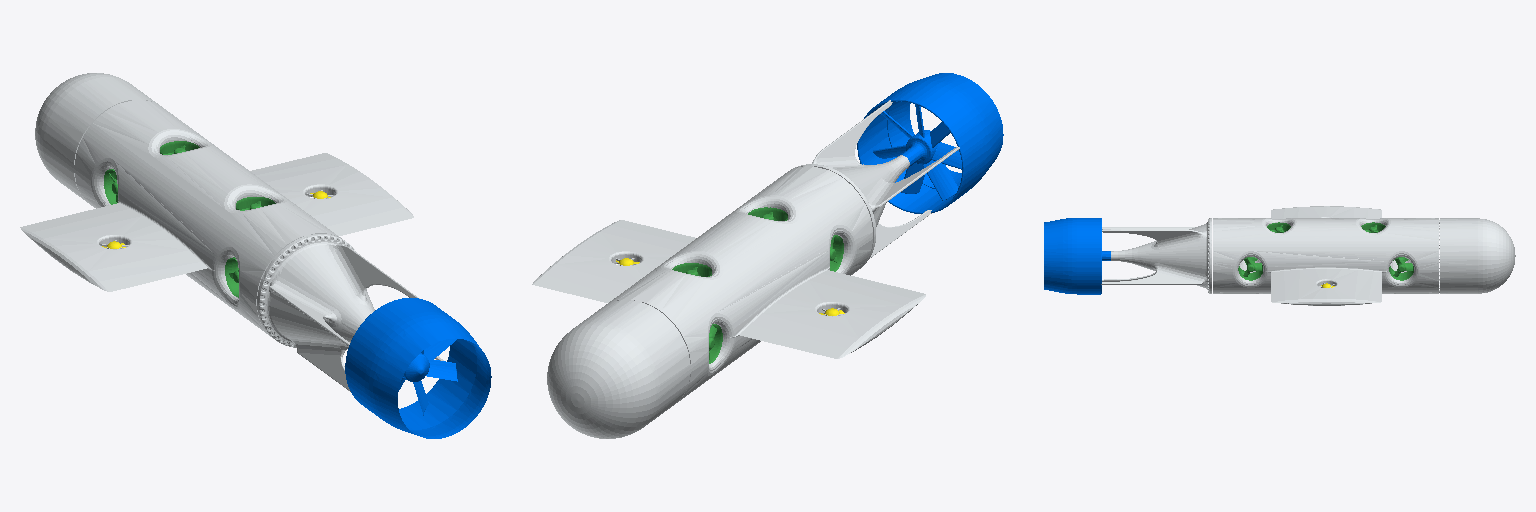
The robot description file, URDF, robot "submarine":
<?xml version="1.0" encoding="utf-8"?>
<robot name="submarine">

  <!-- Base Link -->
  <link name="base_link" />

  <!-- submarineBody -->
  <link name="submarineBody">
    <inertial>
      <origin xyz="0.0198000304243374 0.160306655769169 0.0347768424725871" rpy="0 0 0"/>
      <mass value="245.0"/>
      <inertia ixx="34.6169121880258" ixy="0.441155830654621" ixz="0.0295668083024074"
               iyy="55.2283004720921" iyz="0.172081656792424" izz="81.1192917696619"/>
    </inertial>
    <visual>
      <origin xyz="0 0 0" rpy="0 0 0"/>
      <geometry>
        <mesh filename="meshes/base_link.STL"/>
      </geometry>
      <material name="">
        <color rgba="0.898 0.918 0.929 1"/>
      </material>
    </visual>
    <collision>
      <origin xyz="0 0 0" rpy="0 0 0"/>
      <geometry>
        <mesh filename="meshes/base_link.STL"/>
      </geometry>
    </collision>
  </link>

  <joint name="body_link" type="fixed">
    <parent link="base_link" />
    <child link="submarineBody" />
    <origin xyz="0 0 0" rpy="0 0 0"/>
  </joint>

  <!-- IMU -->
  <link name="imu_link">
    <inertial>
      <origin xyz="0 0 0" rpy="0 0 0" />
      <mass value="0.015" />
      <inertia ixx="0.0001" ixy="0" ixz="0" iyy="0.0001" iyz="0" izz="0.0001"/>
    </inertial>
  </link>

  <joint name="imu_joint" type="fixed">
    <parent link="submarineBody" />
    <child link="imu_link" />
    <origin xyz="0 0 0" rpy="0 0 0" />
  </joint>

  <!-- GPS -->
  <link name="gps_link">
    <inertial>
      <origin xyz="0 0 0" rpy="0 0 0" />
      <mass value="0.000001" />
      <inertia ixx="0.000000001" ixy="0" ixz="0" iyy="0.000000001" iyz="0" izz="0.00000001"/>
    </inertial>
  </link>

  <joint name="gps_joint" type="fixed">
    <parent link="submarineBody" />
    <child link="gps_link" />
    <origin xyz="0 -0.138 0.34" rpy="0 0 1.5707963267948966"/>
  </joint>

  <!-- =============== THRUSTERS =============== -->

  <!-- Main rear motor -->
  <link name="Main_motor_link">
    <inertial>
      <origin xyz="0 0 0" rpy="0 0 0"/>
      <mass value="13.264"/>
      <inertia ixx="0.62053" ixy="0" ixz="0" iyy="0.85374" iyz="0" izz="0.62053"/>
    </inertial>
    <visual>
      <origin xyz="0 0 0" rpy="0 0 0"/>
      <geometry>
        <mesh filename="meshes/Main_motor_link.STL"/>
      </geometry>
      <material name="">
        <color rgba="0 0.502 1 1"/>
      </material>
    </visual>
    <collision>
      <origin xyz="0 0 0" rpy="0 0 0"/>
      <geometry>
        <mesh filename="meshes/Main_motor_link.STL"/>
      </geometry>
    </collision>
  </link>
  <joint name="Main_motor_joint" type="continuous">
    <origin xyz="0.017189 -1.8618 0.033821" rpy="0 0 0"/>
    <parent link="submarineBody"/>
    <child link="Main_motor_link"/>
    <axis xyz="0 1 0"/>
    <limit effort="2000.0" velocity="100.0"/>
  </joint>

  <!-- Motor_up1 -->
  <link name="Motor_up1_link">
    <inertial>
      <origin xyz="0 0 0" rpy="0 0 0"/>
      <mass value="0.7525"/>
      <inertia ixx="0.0027654" ixy="0" ixz="0" iyy="0.0027654" iyz="0" izz="0.00431"/>
    </inertial>
    <visual>
      <origin xyz="0 0 0.1" rpy="0 0 0"/>
      <geometry>
        <mesh filename="meshes/Motor_up1_link.STL"/>
      </geometry>
      <material name="">
        <color rgba="0.286 0.663 0.329 1"/>
      </material>
    </visual>
    <collision>
      <origin xyz="0 0 0" rpy="0 0 0"/>
      <geometry>
        <mesh filename="meshes/Motor_up1_link.STL"/>
      </geometry>
    </collision>
  </link>
  <joint name="Motor_up1_joint" type="continuous">
    <origin xyz="0.017189 0.50339 0.033821" rpy="0 0 0"/>
    <parent link="submarineBody"/>
    <child link="Motor_up1_link"/>
    <axis xyz="0 0 1"/>
    <limit effort="500.0" velocity="100.0"/>
  </joint>

  <!-- Motor_up2 -->
  <link name="Motor_up2_link">
    <inertial>
      <origin xyz="0 0 0" rpy="0 0 0"/>
      <mass value="0.7525"/>
      <inertia ixx="0.0027654" ixy="0" ixz="0" iyy="0.0027654" iyz="0" izz="0.00431"/>
    </inertial>
    <visual>
      <origin xyz="0 0 0.1" rpy="0 0 0"/>
      <geometry>
        <mesh filename="meshes/Motor_up2_link.STL"/>
      </geometry>
      <material name="">
        <color rgba="0.286 0.663 0.329 1"/>
      </material>
    </visual>
    <collision>
      <origin xyz="0 0 0" rpy="0 0 0"/>
      <geometry>
        <mesh filename="meshes/Motor_up2_link.STL"/>
      </geometry>
    </collision>
  </link>
  <joint name="Motor_up2_joint" type="continuous">
    <origin xyz="0.017189 -0.25861 0.033821" rpy="0 0 0"/>
    <parent link="submarineBody"/>
    <child link="Motor_up2_link"/>
    <axis xyz="0 0 1"/>
    <limit effort="500.0" velocity="100.0"/>
  </joint>

  <!-- Motor_down1 -->
  <link name="Motor_down1_link">
    <inertial>
      <origin xyz="0 0 0" rpy="0 0 0"/>
      <mass value="0.7525"/>
      <inertia ixx="0.0027654" ixy="0" ixz="0" iyy="0.0027654" iyz="0" izz="0.00431"/>
    </inertial>
    <visual>
      <origin xyz="0 0 -0.1" rpy="0 0 0"/>
      <geometry>
        <mesh filename="meshes/Motor_down1_link.STL"/>
      </geometry>
      <material name="">
        <color rgba="0.286 0.663 0.329 1"/>
      </material>
    </visual>
    <collision>
      <origin xyz="0 0 0" rpy="0 0 0"/>
      <geometry>
        <mesh filename="meshes/Motor_down1_link.STL"/>
      </geometry>
    </collision>
  </link>
  <joint name="Motor_down1_joint" type="continuous">
    <origin xyz="0.017189 0.50339 -0.11858" rpy="0 0 0"/>
    <parent link="submarineBody"/>
    <child link="Motor_down1_link"/>
    <axis xyz="0 0 1"/>
    <limit effort="500.0" velocity="100.0"/>
  </joint>

  <!-- Motor_down2 -->
  <link name="Motor_down2_link">
    <inertial>
      <origin xyz="0 0 0" rpy="0 0 0"/>
      <mass value="0.7525"/>
      <inertia ixx="0.0027654" ixy="0" ixz="0" iyy="0.0027654" iyz="0" izz="0.00431"/>
    </inertial>
    <visual>
      <origin xyz="0 0 -0.1" rpy="0 0 0"/>
      <geometry>
        <mesh filename="meshes/Motor_down2_link.STL"/>
      </geometry>
      <material name="">
        <color rgba="0.286 0.663 0.329 1"/>
      </material>
    </visual>
    <collision>
      <origin xyz="0 0 0" rpy="0 0 0"/>
      <geometry>
        <mesh filename="meshes/Motor_down2_link.STL"/>
      </geometry>
    </collision>
  </link>
  <joint name="Motor_down2_joint" type="continuous">
    <origin xyz="0.017189 -0.25861 -0.11858" rpy="0 0 0"/>
    <parent link="submarineBody"/>
    <child link="Motor_down2_link"/>
    <axis xyz="0 0 1"/>
    <limit effort="500.0" velocity="100.0"/>
  </joint>

  <!-- Motor_right1 -->
  <link name="Motor_right1_link">
    <inertial>
      <origin xyz="0 0 0" rpy="0 0 0"/>
      <mass value="0.7525"/>
      <inertia ixx="0.0027654" ixy="0" ixz="0" iyy="0.0027654" iyz="0" izz="0.00431"/>
    </inertial>
    <visual>
      <origin xyz="0.1 0 0" rpy="0 0 0"/>
      <geometry>
        <mesh filename="meshes/Motor_right1_link.STL"/>
      </geometry>
      <material name="">
        <color rgba="0.286 0.663 0.329 1"/>
      </material>
    </visual>
    <collision>
      <origin xyz="0 0 0" rpy="0 0 0"/>
      <geometry>
        <mesh filename="meshes/Motor_right1_link.STL"/>
      </geometry>
    </collision>
  </link>
  <joint name="Motor_right1_joint" type="continuous">
    <origin xyz="0.16959 0.73199 0.033821" rpy="0 0 0"/>
    <parent link="submarineBody"/>
    <child link="Motor_right1_link"/>
    <axis xyz="1 0 0"/>
    <limit effort="500.0" velocity="100.0"/>
  </joint>

  <!-- Motor_right2 -->
  <link name="Motor_right2_link">
    <inertial>
      <origin xyz="0 0 0" rpy="0 0 0"/>
      <mass value="0.7525"/>
      <inertia ixx="0.0027654" ixy="0" ixz="0" iyy="0.0027654" iyz="0" izz="0.00431"/>
    </inertial>
    <visual>
      <origin xyz="0.1 0 0" rpy="0 0 0"/>
      <geometry>
        <mesh filename="meshes/Motor_right2_link.STL"/>
      </geometry>
      <material name="">
        <color rgba="0.286 0.663 0.329 1"/>
      </material>
    </visual>
    <collision>
      <origin xyz="0 0 0" rpy="0 0 0"/>
      <geometry>
        <mesh filename="meshes/Motor_right2_link.STL"/>
      </geometry>
    </collision>
  </link>
  <joint name="Motor_right2_joint" type="continuous">
    <origin xyz="0.16959 -0.48721 0.033821" rpy="0 0 0"/>
    <parent link="submarineBody"/>
    <child link="Motor_right2_link"/>
    <axis xyz="1 0 0"/>
    <limit effort="500.0" velocity="100.0"/>
  </joint>

  <!-- Motor_left1 -->
  <link name="Motor_left1_link">
    <inertial>
      <origin xyz="0 0 0" rpy="0 0 0"/>
      <mass value="0.7525"/>
      <inertia ixx="0.0027654" ixy="0" ixz="0" iyy="0.0027654" iyz="0" izz="0.00431"/>
    </inertial>
    <visual>
      <origin xyz="-0.1 0 0" rpy="0 0 0"/>
      <geometry>
        <mesh filename="meshes/Motor_left1_link.STL"/>
      </geometry>
      <material name="">
        <color rgba="0.286 0.663 0.329 1"/>
      </material>
    </visual>
    <collision>
      <origin xyz="0 0 0" rpy="0 0 0"/>
      <geometry>
        <mesh filename="meshes/Motor_left1_link.STL"/>
      </geometry>
    </collision>
  </link>
  <joint name="Motor_left1_joint" type="continuous">
    <origin xyz="-0.13013 0.73199 0.033821" rpy="0 0 0"/>
    <parent link="submarineBody"/>
    <child link="Motor_left1_link"/>
    <axis xyz="1 0 0"/>
    <limit effort="500.0" velocity="100.0"/>
  </joint>

  <!-- Motor_left2 -->
  <link name="Motor_left2_link">
    <inertial>
      <origin xyz="0 0 0" rpy="0 0 0"/>
      <mass value="0.7525"/>
      <inertia ixx="0.0027654" ixy="0" ixz="0" iyy="0.0027654" iyz="0" izz="0.00431"/>
    </inertial>
    <visual>
      <origin xyz="-0.1 0 0" rpy="0 0 0"/>
      <geometry>
        <mesh filename="meshes/Motor_left2_link.STL"/>
      </geometry>
      <material name="">
        <color rgba="0.286 0.663 0.329 1"/>
      </material>
    </visual>
    <collision>
      <origin xyz="0 0 0" rpy="0 0 0"/>
      <geometry>
        <mesh filename="meshes/Motor_left2_link.STL"/>
      </geometry>
    </collision>
  </link>
  <joint name="Motor_left2_joint" type="continuous">
    <origin xyz="-0.13267 -0.48721 0.033821" rpy="0 0 0"/>
    <parent link="submarineBody"/>
    <child link="Motor_left2_link"/>
    <axis xyz="1 0 0"/>
    <limit effort="500.0" velocity="100.0"/>
  </joint>

  <!-- Motor_left (side bow) -->
  <link name="Motor_left_link">
    <inertial>
      <origin xyz="0 0 0" rpy="0 0 0"/>
      <mass value="0.2348439"/>
      <inertia ixx="0.000197375" ixy="0" ixz="0" iyy="0.000197375" iyz="0" izz="0.000304085"/>
    </inertial>
    <visual>
      <origin xyz="0 0 0" rpy="0 0 0"/>
      <geometry>
        <mesh filename="meshes/Motor_left_link.STL"/>
      </geometry>
      <material name="">
        <color rgba="1 0.937 0.137 1"/>
      </material>
    </visual>
    <collision>
      <origin xyz="0 0 0" rpy="0 0 0"/>
      <geometry>
        <mesh filename="meshes/Motor_left_link.STL"/>
      </geometry>
    </collision>
  </link>
  <joint name="Motor_left_joint" type="continuous">
    <origin xyz="-0.58027 0.12677 0.0054523" rpy="0 0 0"/>
    <parent link="submarineBody"/>
    <child link="Motor_left_link"/>
    <axis xyz="0 0 1"/>
    <limit effort="500.0" velocity="100.0"/>
  </joint>

  <!-- Motor_right (side bow) -->
  <link name="Motor_right_link">
    <inertial>
      <origin xyz="0 0 0" rpy="0 0 0"/>
      <mass value="0.2348439"/>
      <inertia ixx="0.000197375" ixy="0" ixz="0" iyy="0.000197375" iyz="0" izz="0.000304085"/>
    </inertial>
    <visual>
      <origin xyz="0 0 0" rpy="0 0 0"/>
      <geometry>
        <mesh filename="meshes/Motor_right_link.STL"/>
      </geometry>
      <material name="">
        <color rgba="1 0.937 0.137 1"/>
      </material>
    </visual>
    <collision>
      <origin xyz="0 0 0" rpy="0 0 0"/>
      <geometry>
        <mesh filename="meshes/Motor_right_link.STL"/>
      </geometry>
    </collision>
  </link>
  <joint name="Motor_right_joint" type="continuous">
    <origin xyz="0.61465 0.12677 0.0054523" rpy="0 0 0"/>
    <parent link="submarineBody"/>
    <child link="Motor_right_link"/>
    <axis xyz="0 0 1"/>
    <limit effort="500.0" velocity="100.0"/>
  </joint>

  <!-- =============== GAZEBO TAGS (ignored by PyBullet, but kept for completeness) =============== -->
  <gazebo reference="submarineBody">
    <mu1>0.1</mu1>
    <mu2>0.1</mu2>
    <kp>1e8</kp>
    <kd>1.0</kd>
    <selfCollide>false</selfCollide>
  </gazebo>

  <!-- These are safe to keep; PyBullet will ignore them -->
  <gazebo reference="Main_motor_link"><mu1>0.1</mu1><mu2>0.1</mu2><kp>1e8</kp><kd>1.0</kd></gazebo>
  <gazebo reference="Motor_up1_link"><mu1>0.1</mu1><mu2>0.1</mu2><kp>1e8</kp><kd>1.0</kd></gazebo>
  <gazebo reference="Motor_up2_link"><mu1>0.1</mu1><mu2>0.1</mu2><kp>1e8</kp><kd>1.0</kd></gazebo>
  <gazebo reference="Motor_down1_link"><mu1>0.1</mu1><mu2>0.1</mu2><kp>1e8</kp><kd>1.0</kd></gazebo>
  <gazebo reference="Motor_down2_link"><mu1>0.1</mu1><mu2>0.1</mu2><kp>1e8</kp><kd>1.0</kd></gazebo>
  <gazebo reference="Motor_right1_link"><mu1>0.1</mu1><mu2>0.1</mu2><kp>1e8</kp><kd>1.0</kd></gazebo>
  <gazebo reference="Motor_right2_link"><mu1>0.1</mu1><mu2>0.1</mu2><kp>1e8</kp><kd>1.0</kd></gazebo>
  <gazebo reference="Motor_left1_link"><mu1>0.1</mu1><mu2>0.1</mu2><kp>1e8</kp><kd>1.0</kd></gazebo>
  <gazebo reference="Motor_left2_link"><mu1>0.1</mu1><mu2>0.1</mu2><kp>1e8</kp><kd>1.0</kd></gazebo>
  <gazebo reference="Motor_left_link"><mu1>0.1</mu1><mu2>0.1</mu2><kp>1e8</kp><kd>1.0</kd></gazebo>
  <gazebo reference="Motor_right_link"><mu1>0.1</mu1><mu2>0.1</mu2><kp>1e8</kp><kd>1.0</kd></gazebo>

</robot>

--- Render facts (derived) ---
The picture shows the robot from 3 angles, left to right: view 1: azimuth 30°, elevation 25°; view 2: azimuth 150°, elevation 25°; view 3: azimuth 270°, elevation 25°; orthographic projection.
Robot: submarine — 15 links, 14 joints (11 continuous, 3 fixed); root link base_link; default pose: all joints at 0.
Visible links, largest first — view 1: submarineBody, Main_motor_link; view 2: submarineBody, Main_motor_link; view 3: submarineBody, Main_motor_link.
Boxes of the visible links, x1,y1,x2,y2 form: submarineBody: [20, 73, 443, 391]; Main_motor_link: [345, 298, 491, 438]; submarineBody: [532, 100, 959, 438]; Main_motor_link: [857, 73, 1003, 213]; submarineBody: [1101, 206, 1515, 305]; Main_motor_link: [1044, 218, 1110, 294].
Bounding box of the posed robot: 1.82 × 3.81 × 0.6218 m (x, y, z).
12 mesh visuals loaded from 12 distinct referenced files (12 binary STL).